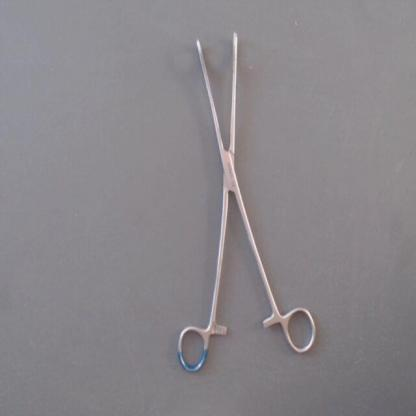Sponge Forceps: (171, 25, 322, 380)
